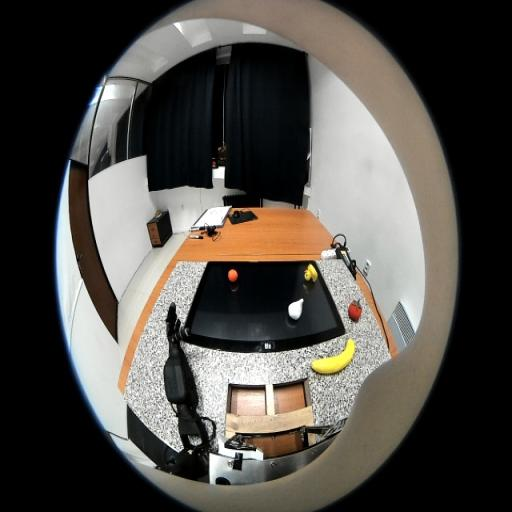Banana: (311, 338, 355, 374)
Duck: (304, 264, 318, 282)
LeftHand: (166, 324, 180, 346)
Onion: (288, 298, 304, 320)
Orange: (228, 268, 238, 282)
Tomato: (348, 300, 362, 322)
